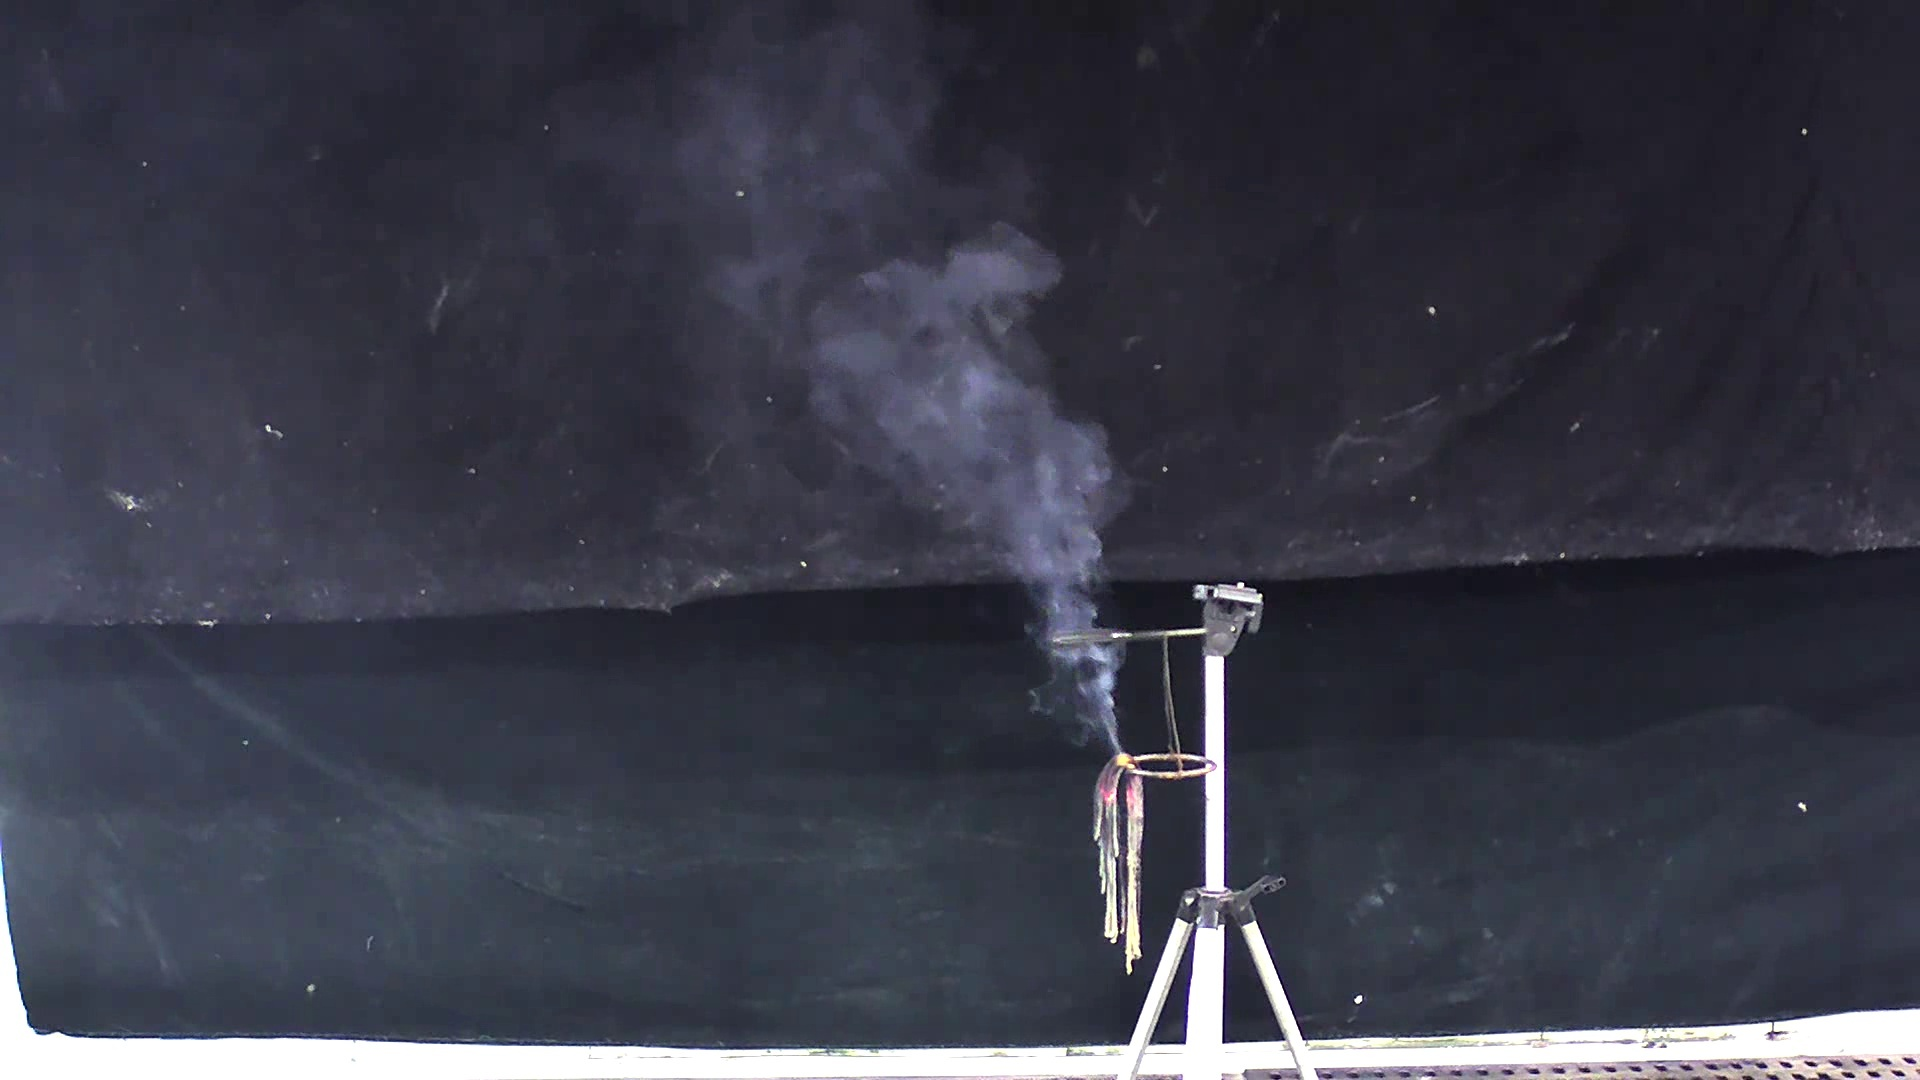smoke: (665, 30, 1149, 742)
